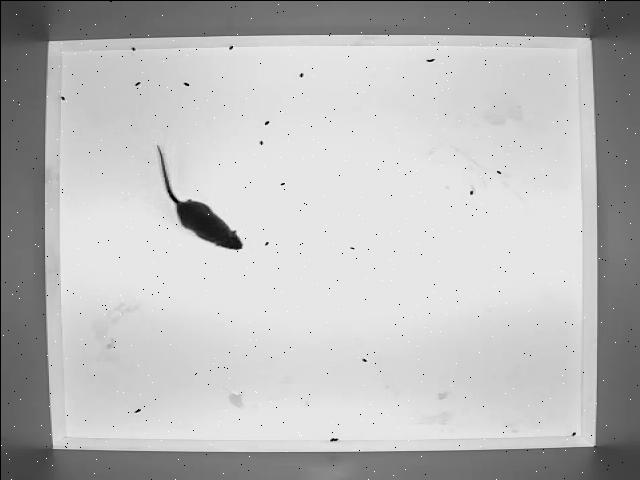Tikus: (154, 142, 245, 252)
